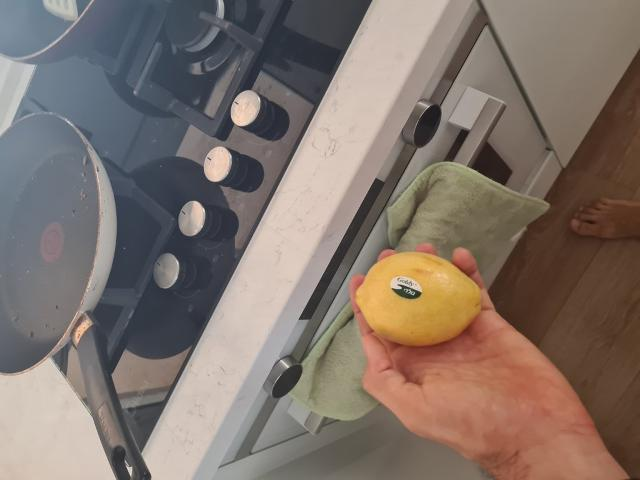lemon: (357, 255, 486, 342)
